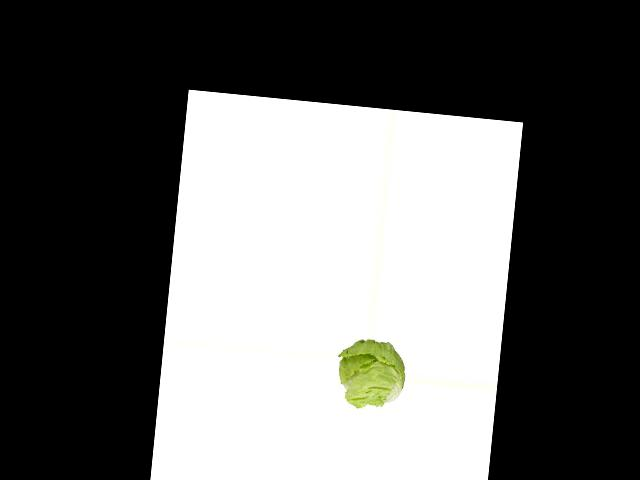lettuce: (335, 337, 410, 410)
